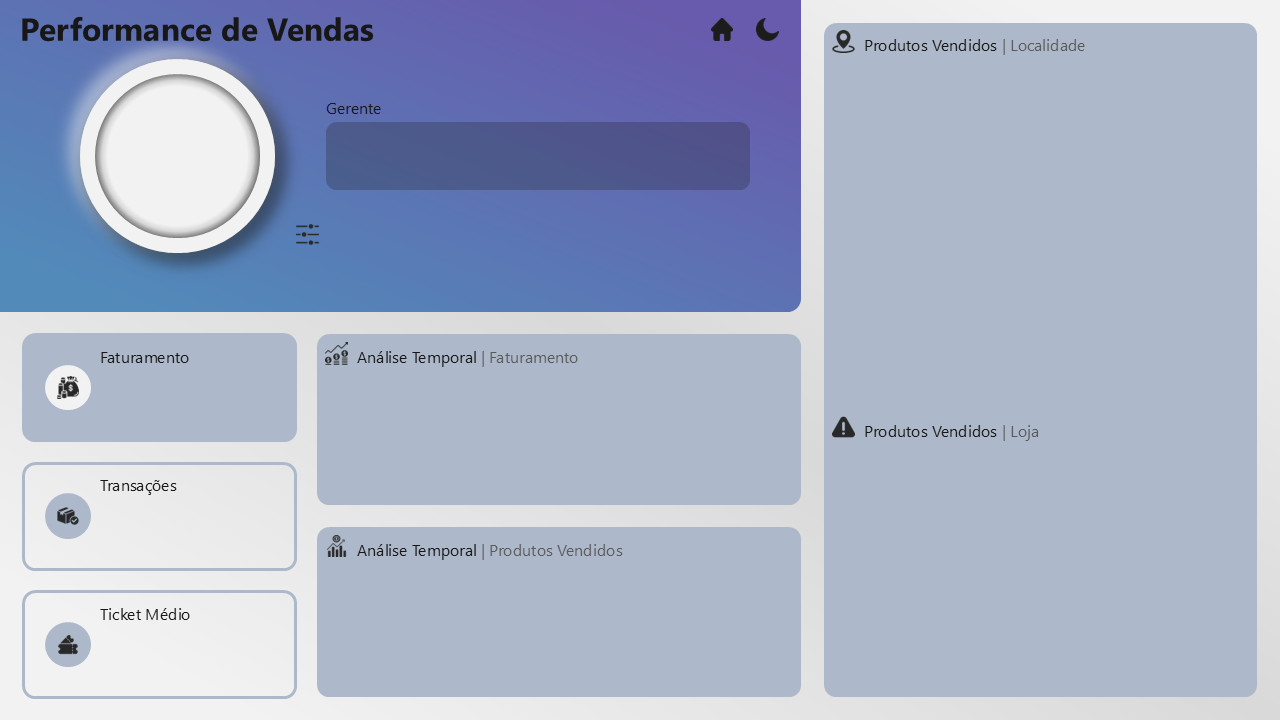

The dashboard page shown, as its layout file describes it:
{"tool":"powerbi","page":{"name":"analise-light","canvas":[1280,720],"ordinal":3},"visuals":[{"type":"cardVisual","fields":{"Data":["fPedidos.Faturamento"]},"box":[82.9,350.2,230,86],"z":0},{"type":"cardVisual","fields":{"Data":["fPedidos.Quantidade de Pedidos"]},"box":[82,478,230,86],"z":1000},{"type":"cardVisual","fields":{"Data":["fPedidos.Ticket Médio"]},"box":[82,608,230,86],"z":2000},{"type":"slicer","fields":{"Values":["dGerentes.nome_gerente"]},"box":[299.9,210.8,474.6,47.6],"z":3000},{"type":"areaChart","fields":{"Category":["calendario.mes"],"Y":["fPedidos.Faturamento"],"Y2":["Medidas.quantidade_pedidos"]},"box":[318,368.6,482,136],"z":4000},{"type":"card","fields":{"Values":["Min(dGerentes.nome_gerente)"]},"box":[326,122,424,68],"z":5000},{"type":"ImageGrid_FC5183B9_926C_45E0_B5F7_0CE9EAF1DA9B","fields":{"ImageURLHQ":["dGerentes.link_foto_gerente"]},"box":[89,56.5,176.4,198.5],"z":7000},{"type":"shapeMap","fields":{"Category":["dUnidadesFederativas.Estado"],"Value":["fPedidos.Faturamento"]},"box":[826,38,430,400],"z":8000},{"type":"areaChart","fields":{"Category":["calendario.mes"],"Y":["fPedidos.Quntidade de Produtos"]},"box":[318,560,482,136],"z":9000},{"type":"actionButton","box":[702,10.6,40,40],"z":10000},{"type":"actionButton","box":[748,9.7,39.7,40.6],"z":11000},{"type":"tableEx","fields":{"Values":["lojas.nome_loja","Medidas.quantidade_produtos","Medidas.percentual_produtos_vendidos_loja","SparklineData(Medidas.quantidade_produtos_[dCalendario.mes_abreviado])"]},"box":[826,446,430,254],"z":11001}]}

Visuals, with their boxes in screenshot pixels (x1, y1, x2, y2), scaled from the page's 1280x720 canvas onto the 1280x720 screenshot:
cardVisual - fPedidos.Faturamento: 83, 350, 313, 436
cardVisual - fPedidos.Quantidade de Pedidos: 82, 478, 312, 564
cardVisual - fPedidos.Ticket Médio: 82, 608, 312, 694
slicer - dGerentes.nome_gerente: 300, 211, 774, 258
areaChart - calendario.mes x fPedidos.Faturamento: 318, 369, 800, 505
card - Min(dGerentes.nome_gerente): 326, 122, 750, 190
ImageGrid_FC5183B9_926C_45E0_B5F7_0CE9EAF1DA9B - dGerentes.link_foto_gerente: 89, 56, 265, 255
shapeMap - dUnidadesFederativas.Estado x fPedidos.Faturamento: 826, 38, 1256, 438
areaChart - calendario.mes x fPedidos.Quntidade de Produtos: 318, 560, 800, 696
actionButton: 702, 11, 742, 51
actionButton: 748, 10, 788, 50
tableEx - lojas.nome_loja x Medidas.quantidade_produtos: 826, 446, 1256, 700
